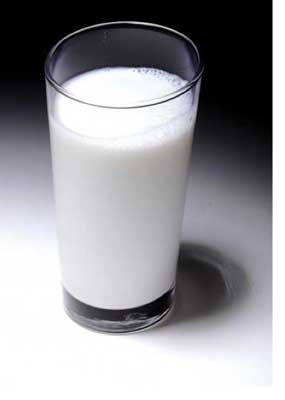glass of milk: (59, 51, 184, 307)
